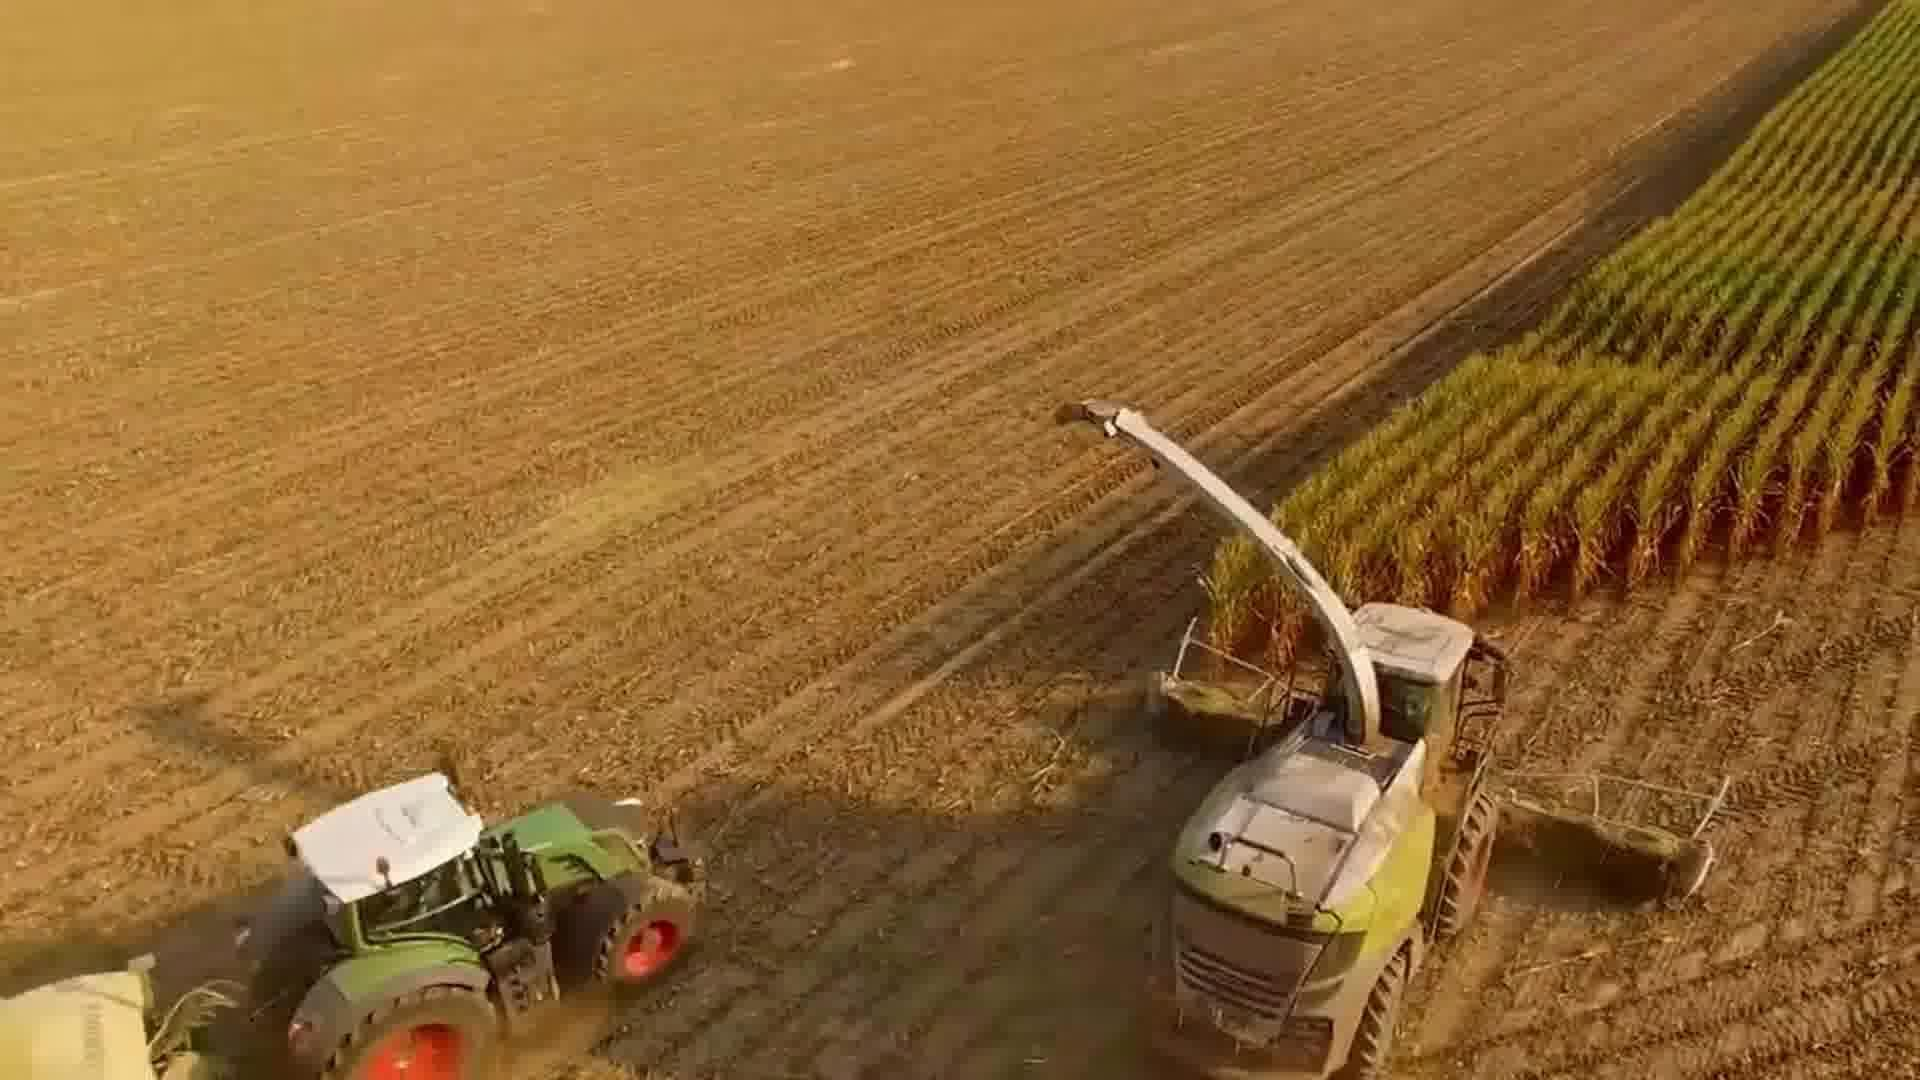combine harvester: (1050, 392, 1724, 1080)
tractor: (233, 748, 719, 1080)
trailer: (0, 935, 222, 1080)
